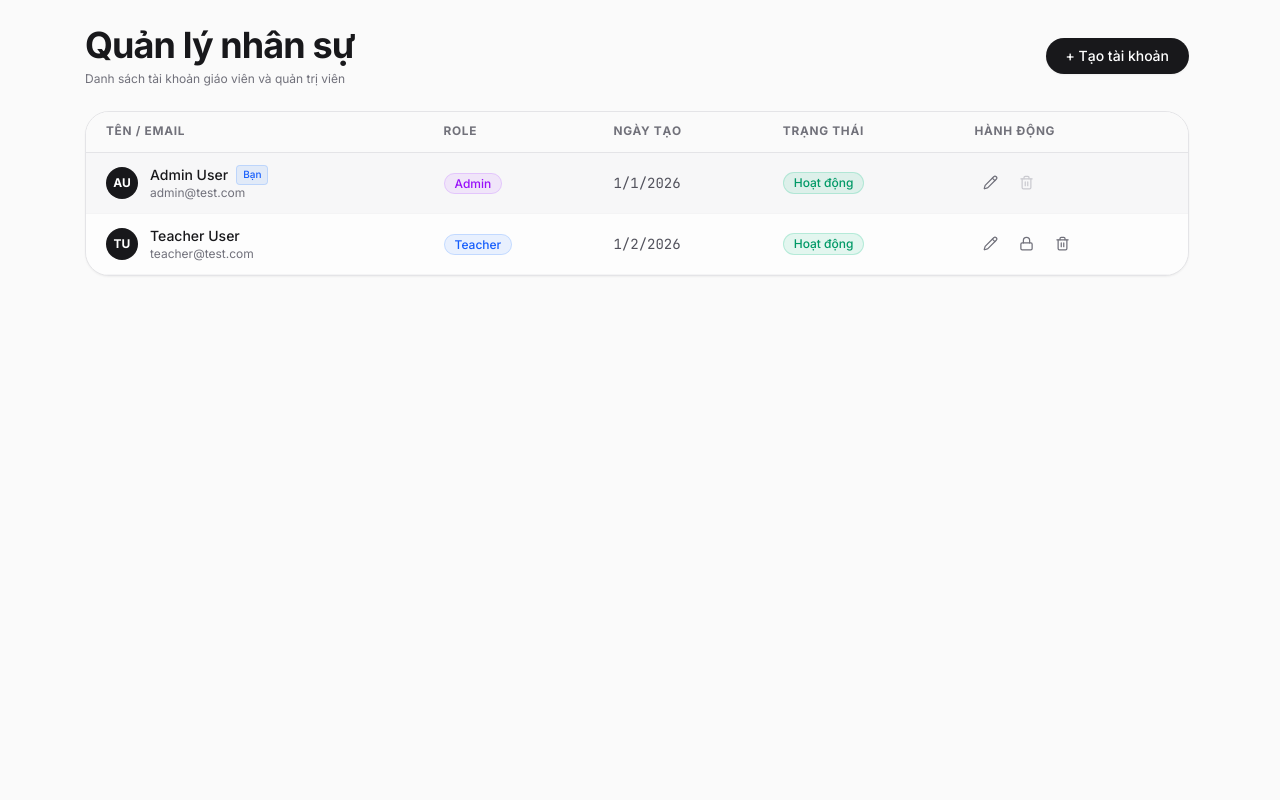
Test case: Accounts page — TanStack Query & Skeleton caching › lets picking a role in the dropdown update the selected value
Expected: the text "Teacher User" is shown, [150, 226, 240, 246]
Click the button "+ Tạo tài khoản" at (1117, 56), box [1046, 38, 1189, 74]
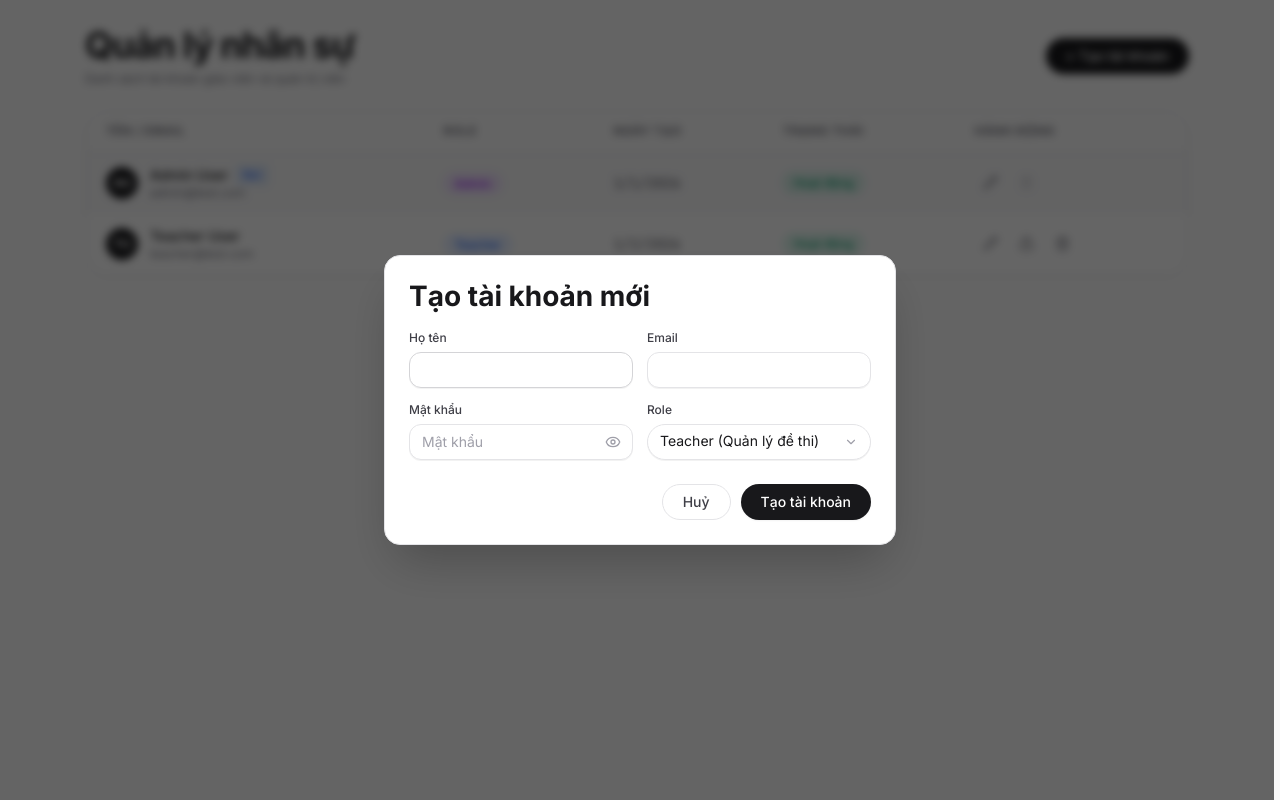
Now the button with aria-label "Role" reads "Teacher (Quản lý đề thi)"
Click the button with aria-label "Role" at (759, 442), box [647, 424, 871, 460]
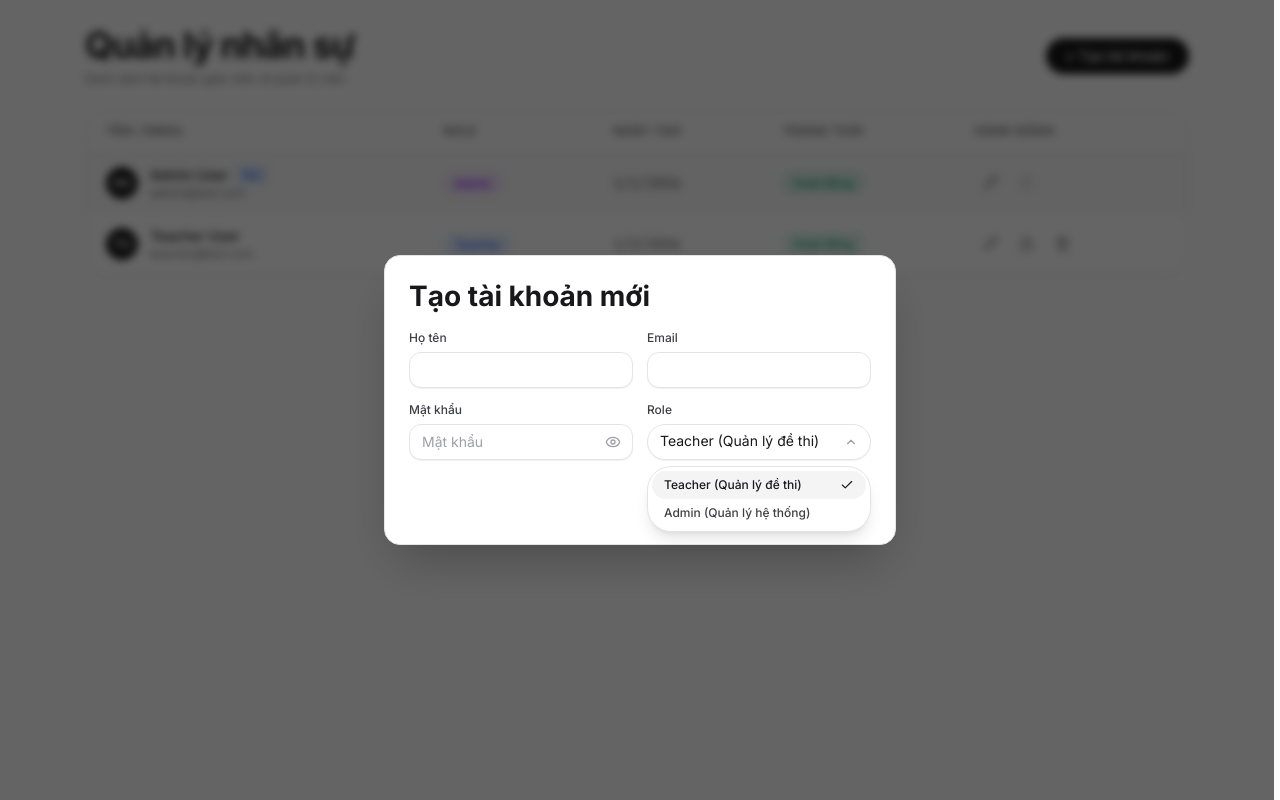
Click the option "Admin (Quản lý hệ thống)" at (737, 512), box [664, 505, 810, 520]
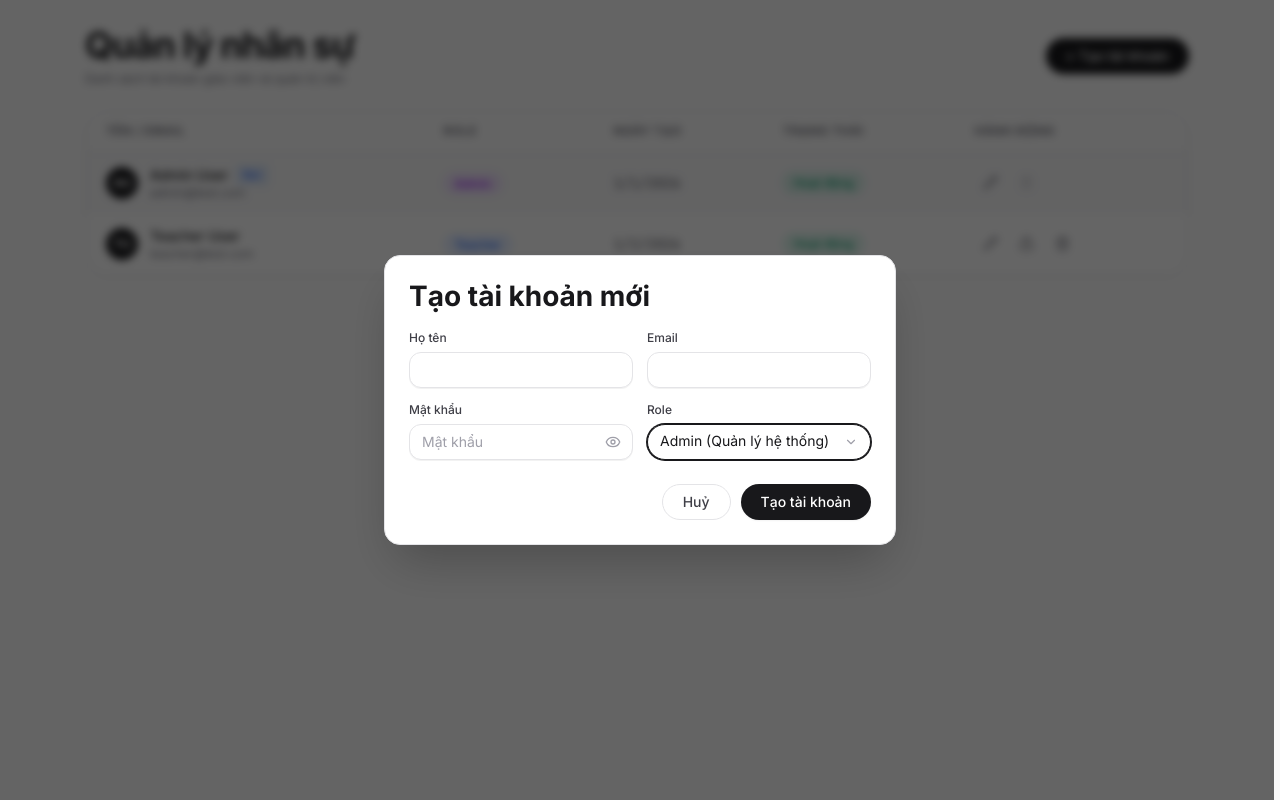
Now the button with aria-label "Role" reads "Admin (Quản lý hệ thống)", box [647, 424, 871, 460]
